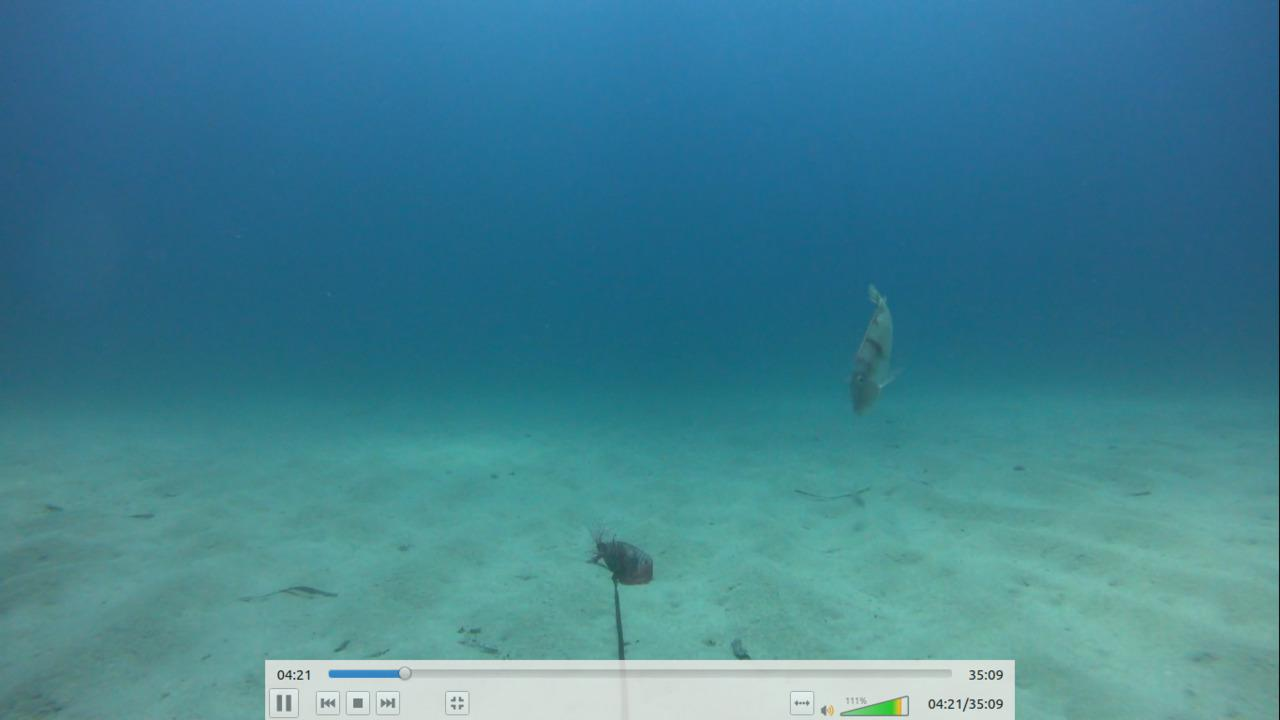raor: (842, 276, 904, 418)
